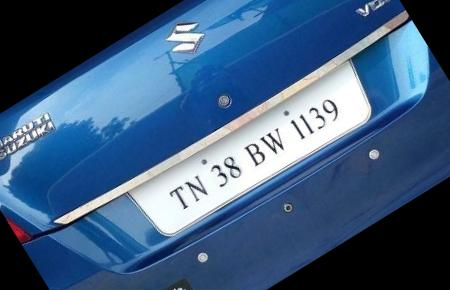plate: (113, 33, 400, 261)
